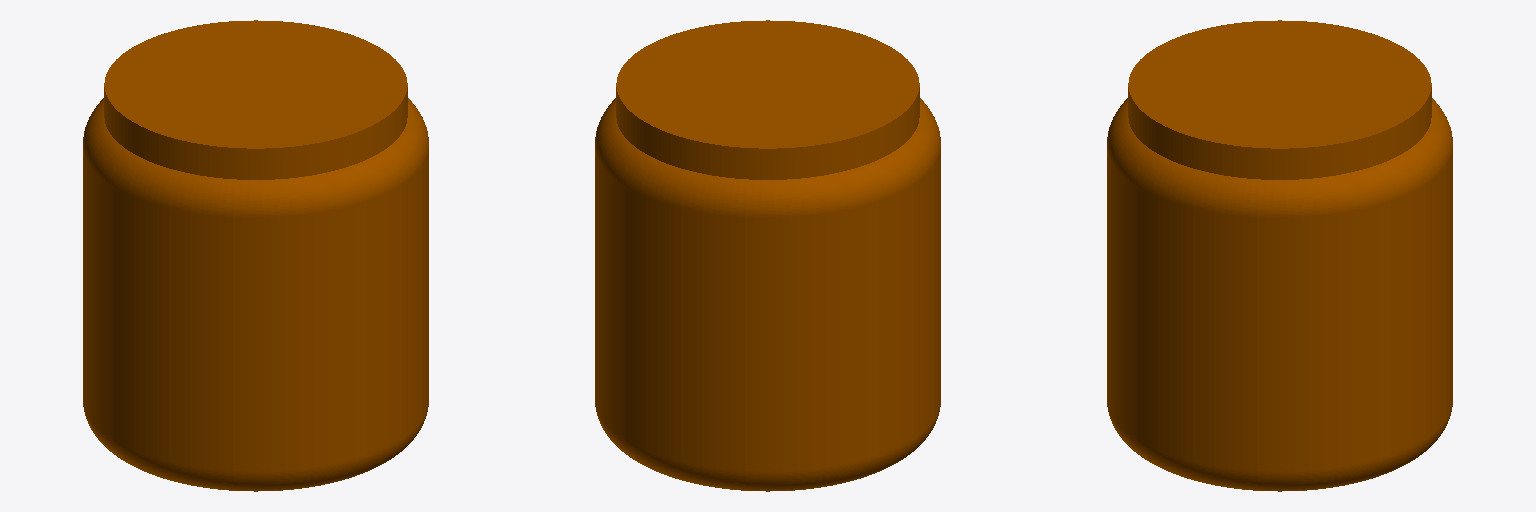
robot.urdf — nutella.urdf:
<?xml version="0.0" ?>
<robot name="nutella.urdf">
  <link name="baseLink">
    <contact>
      <lateral_friction value="1.0"/>
      <inertia_scaling value="3.0"/>
    </contact>
    <inertial>
      <origin rpy="0 0 0" xyz="0 0 0"/>
       <mass value=".2"/>
       <inertia ixx="0.1" ixy="0" ixz="0" iyy="0.1" iyz="0" izz="0.1"/>
    </inertial>
    <visual>
      <origin rpy="0 0 0" xyz="0 0 0"/>
      <geometry>
        <mesh filename="nutella.stl" scale="1 1 1"/>
      </geometry>
      <material name="blue">
        <color rgba="0.65 0.36 0.0 1"/>
      </material>
    </visual>
    <collision>
      <origin rpy="0 0 0" xyz="0 0 0"/>
      <geometry>
    <box size="0.005 0.005 0.005"/>
      </geometry>
    </collision>
  </link>
</robot>

--- Render facts (derived) ---
Views: 3 orthographic renders of the robot side by side, from view 1: azimuth 30°, elevation 25°; view 2: azimuth 150°, elevation 25°; view 3: azimuth 270°, elevation 25°.
Model nutella.urdf with 1 links and 0 joints (none), rooted at baseLink, posed every joint at zero.
Visible links, largest first — view 1: baseLink; view 2: baseLink; view 3: baseLink.
Link boxes in pixels (x1,y1,x2,y2): baseLink: [83, 20, 428, 491]; baseLink: [595, 20, 940, 491]; baseLink: [1107, 20, 1452, 491].
Bounding box of the posed robot: 0.05 × 0.05 × 0.055 m (x, y, z).
1 mesh visuals loaded from 1 distinct referenced files (1 binary STL).